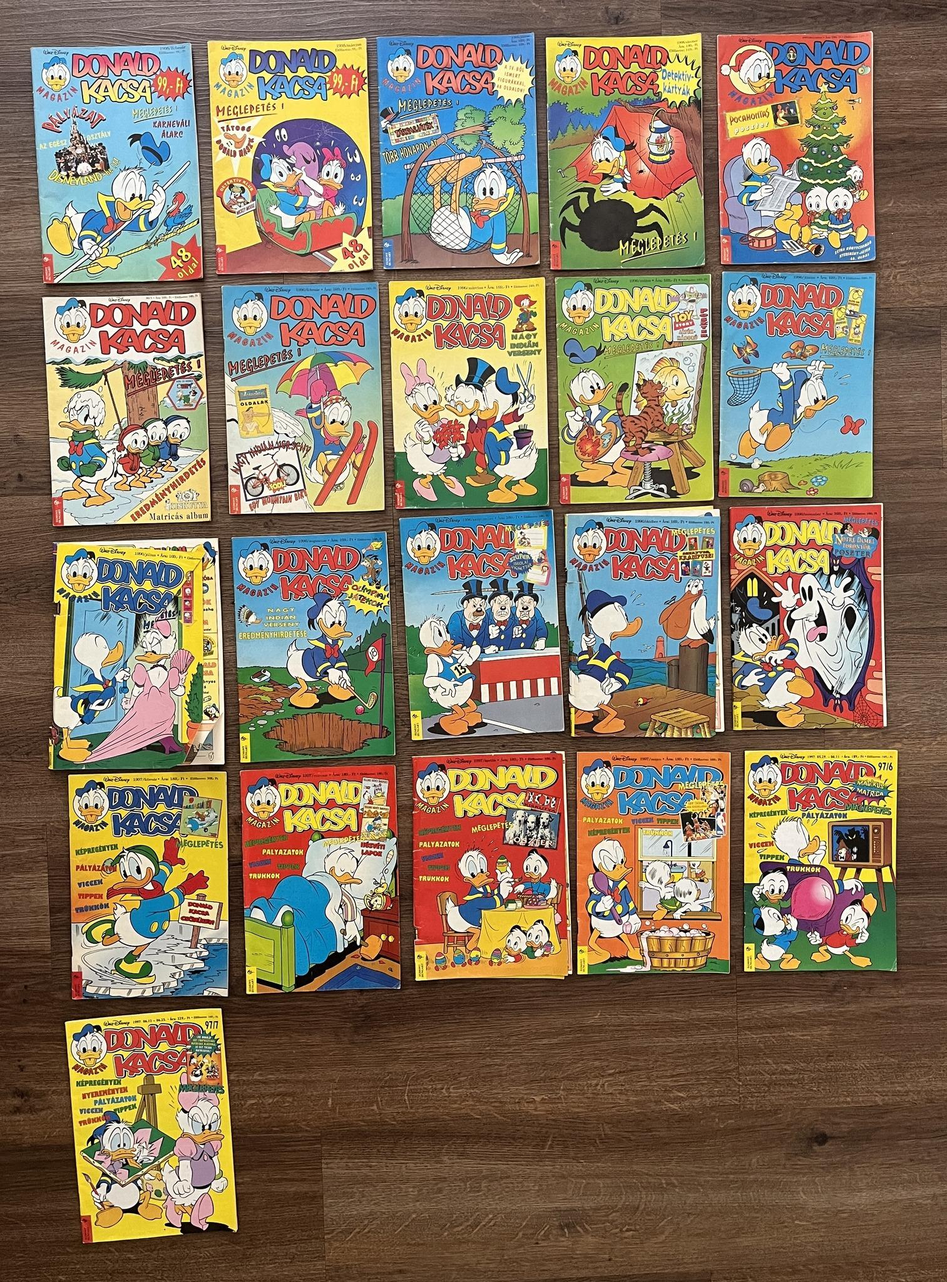comic: (32, 39, 204, 291), (65, 1005, 239, 1244), (43, 290, 212, 528), (49, 541, 218, 775), (208, 38, 373, 276), (398, 509, 565, 742), (377, 34, 540, 272), (232, 531, 396, 766), (223, 280, 385, 515), (546, 34, 705, 272), (389, 277, 550, 511), (409, 751, 570, 982), (718, 32, 876, 267), (727, 503, 888, 732), (241, 762, 400, 993), (69, 771, 229, 1000), (566, 509, 724, 740), (719, 268, 876, 500), (556, 274, 713, 505), (575, 751, 730, 974), (744, 750, 898, 972), (134, 538, 225, 767), (179, 538, 232, 766)
